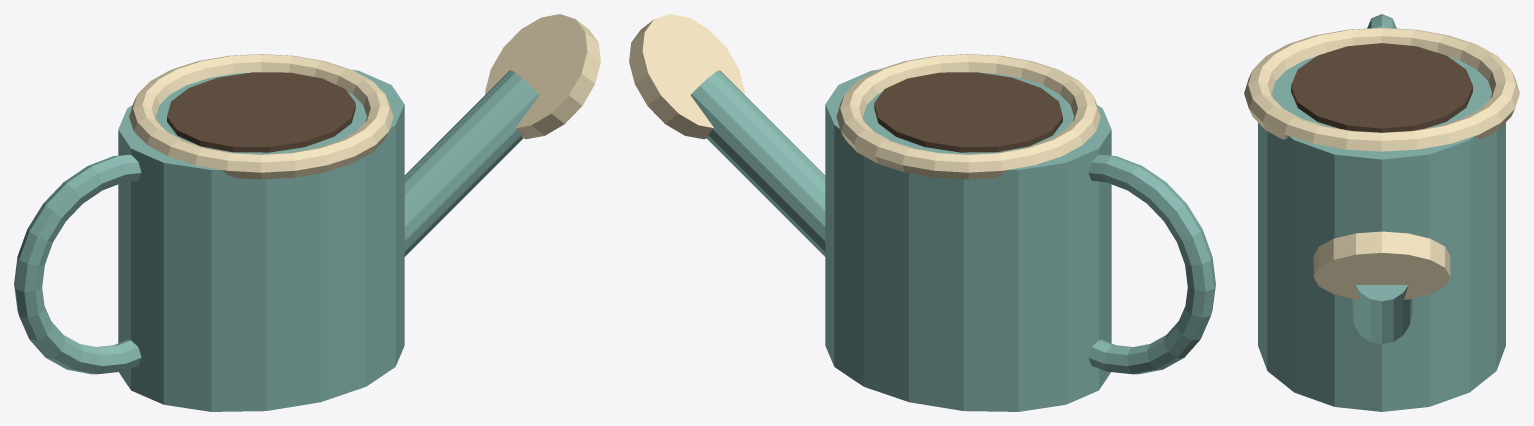
File: WateringCan.fbx
3 views of the same model, side by side, from view 1: azimuth 30°, elevation 25°; view 2: azimuth 150°, elevation 25°; view 3: azimuth 270°, elevation 25° (orthographic). The views are drawn at different scales.
Parts seen in each view (by area): view 1: Enamel body, Top lip, Dark opening, Spout, Handle, Sprinkler rose; view 2: Enamel body, Top lip, Dark opening, Spout, Handle, Sprinkler rose; view 3: Enamel body, Dark opening, Top lip, Sprinkler rose, Spout, Handle.
Boxes of the visible parts, bbox=[...] form: Enamel body: bbox=[118, 69, 404, 411]; Top lip: bbox=[129, 54, 393, 179]; Dark opening: bbox=[167, 72, 355, 152]; Spout: bbox=[404, 70, 539, 256]; Handle: bbox=[14, 154, 141, 374]; Sprinkler rose: bbox=[485, 14, 600, 139]; Enamel body: bbox=[825, 69, 1111, 411]; Top lip: bbox=[836, 54, 1100, 179]; Dark opening: bbox=[874, 72, 1062, 152]; Spout: bbox=[690, 70, 825, 256]; Handle: bbox=[1088, 154, 1215, 374]; Sprinkler rose: bbox=[629, 14, 744, 139]; Enamel body: bbox=[1258, 27, 1505, 411]; Dark opening: bbox=[1291, 43, 1472, 132]; Top lip: bbox=[1244, 27, 1519, 151]; Sprinkler rose: bbox=[1313, 231, 1450, 299]; Spout: bbox=[1351, 285, 1412, 343]; Handle: bbox=[1367, 14, 1396, 28].
Size of the model in its own units: 273 by 120 by 109.
